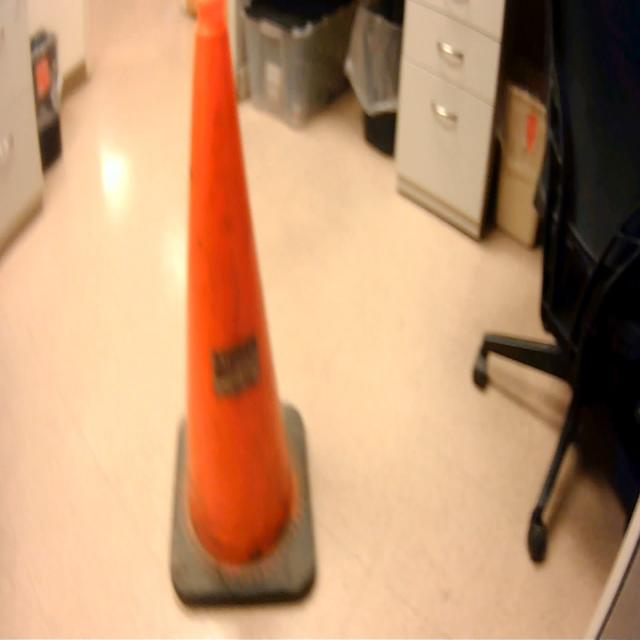traffic cone: (164, 1, 325, 616)
